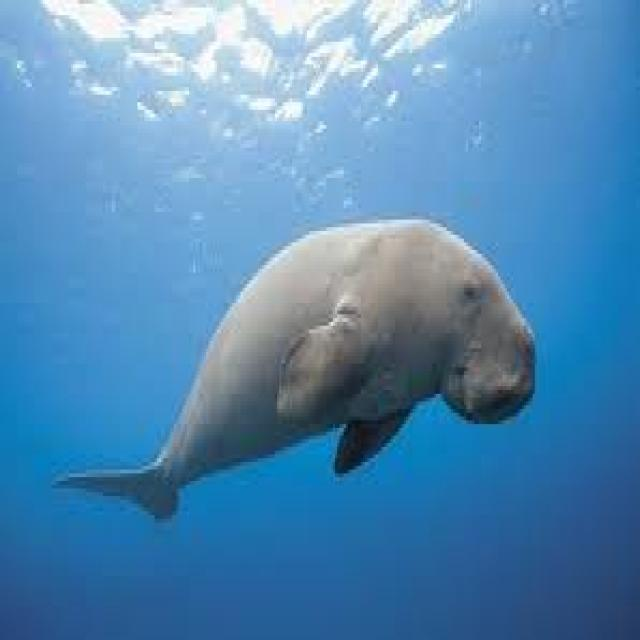Dugong -Endangered-: (63, 221, 534, 520)
